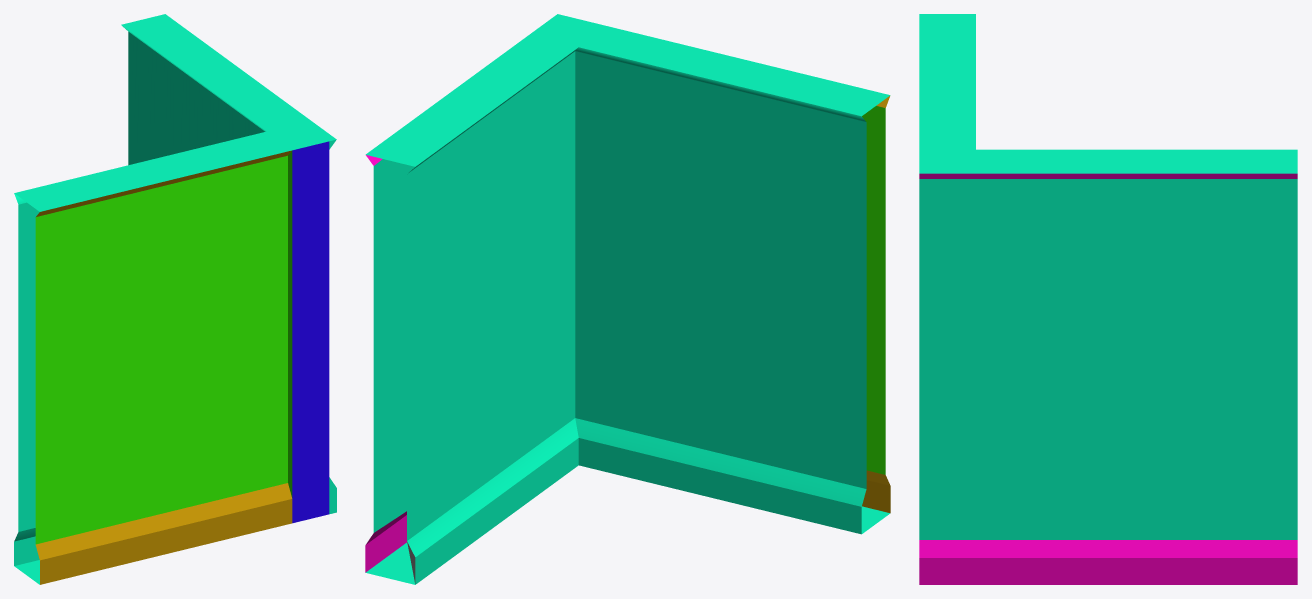
3 renders of one model, left to right at view 1: azimuth 30°, elevation 25°; view 2: azimuth 150°, elevation 25°; view 3: azimuth 270°, elevation 25°, orthographic. The views are drawn at different scales.
Parts seen in each view (by area): view 1: ModularWallInnerFlat001; view 2: ModularWallInnerFlat001; view 3: ModularWallInnerFlat001.
Part boxes in pixels (bbox=[...]): ModularWallInnerFlat001: bbox=[14, 14, 336, 584]; ModularWallInnerFlat001: bbox=[365, 14, 890, 584]; ModularWallInnerFlat001: bbox=[919, 14, 1297, 584].
Size of the model in its own units: 100 by 120 by 100.
